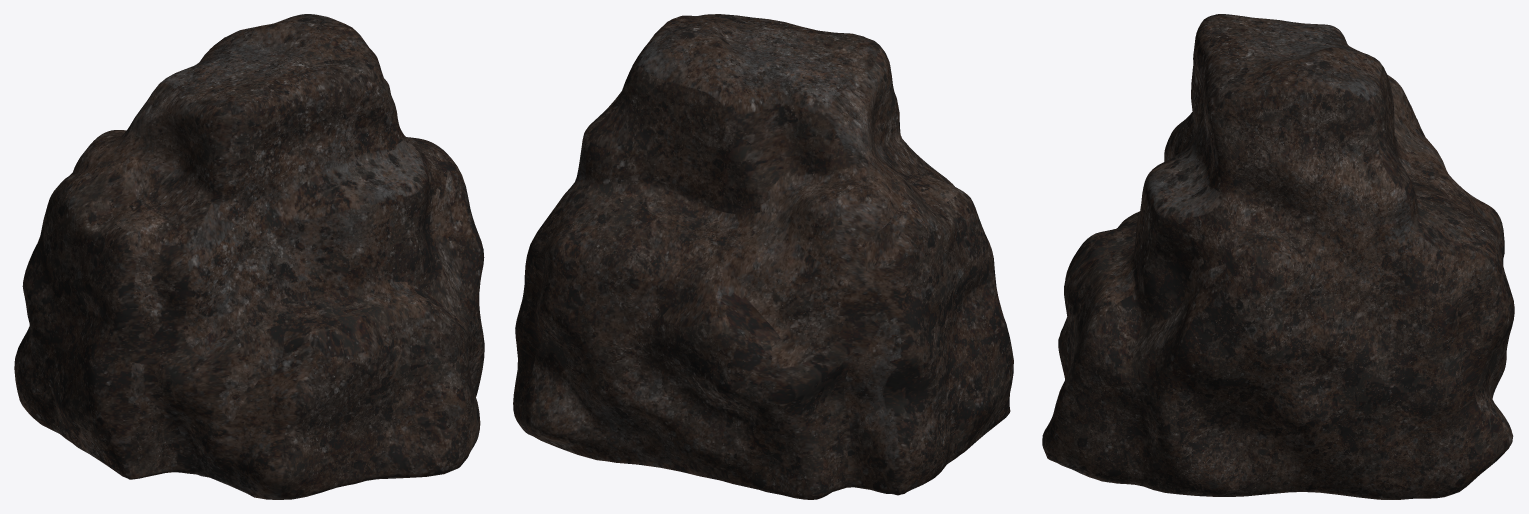
Rendered from isorockkk.fbx.
The picture shows the model from 3 angles, left to right: view 1: azimuth 30°, elevation 25°; view 2: azimuth 150°, elevation 25°; view 3: azimuth 270°, elevation 25°; orthographic projection. The views are drawn at different scales.
Parts seen in each view (by area): view 1: pCube8; view 2: pCube8; view 3: pCube8.
Part boxes in pixels (left/top/right/bottom): pCube8: left=14, top=14, right=484, bottom=499; pCube8: left=513, top=14, right=1013, bottom=499; pCube8: left=1042, top=14, right=1514, bottom=499.
Size of the model in its own units: 501 by 444 by 488.
